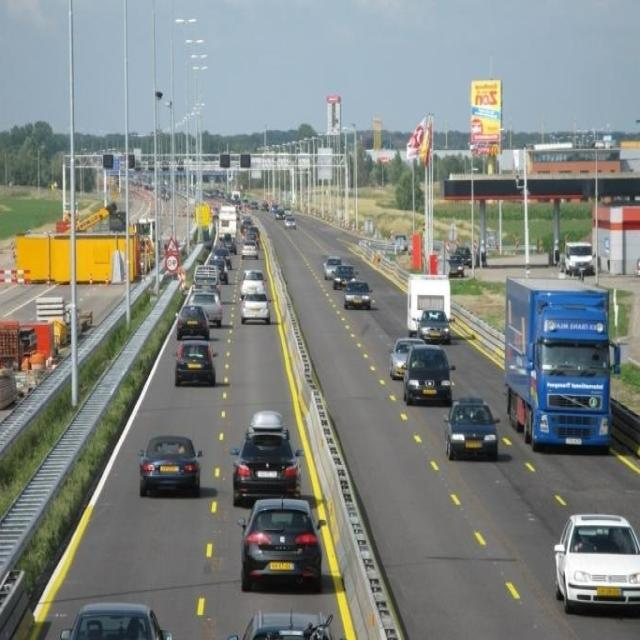Caminhao: (507, 279, 615, 457)
Carro Branco: (543, 512, 640, 616)
Carro Cinza: (418, 307, 449, 347)
Carro Prata: (391, 335, 418, 381), (242, 290, 272, 328), (243, 269, 267, 298)
Carro Preto: (234, 492, 323, 598), (59, 599, 175, 640), (231, 430, 299, 499), (221, 600, 338, 640), (137, 434, 203, 493), (445, 390, 496, 460), (403, 344, 453, 409), (170, 339, 218, 387), (175, 303, 209, 341), (342, 279, 371, 321), (337, 264, 358, 293)
